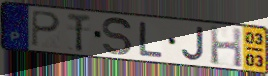H: (208, 25, 244, 69)
J: (180, 26, 206, 62)
L: (138, 20, 165, 59)
P: (30, 9, 63, 48)
S: (101, 16, 135, 58)
T: (66, 12, 92, 53)
